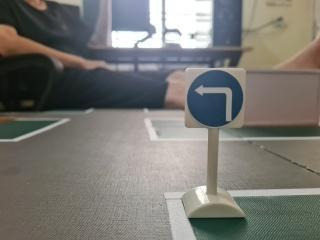left: (185, 68, 245, 129)
